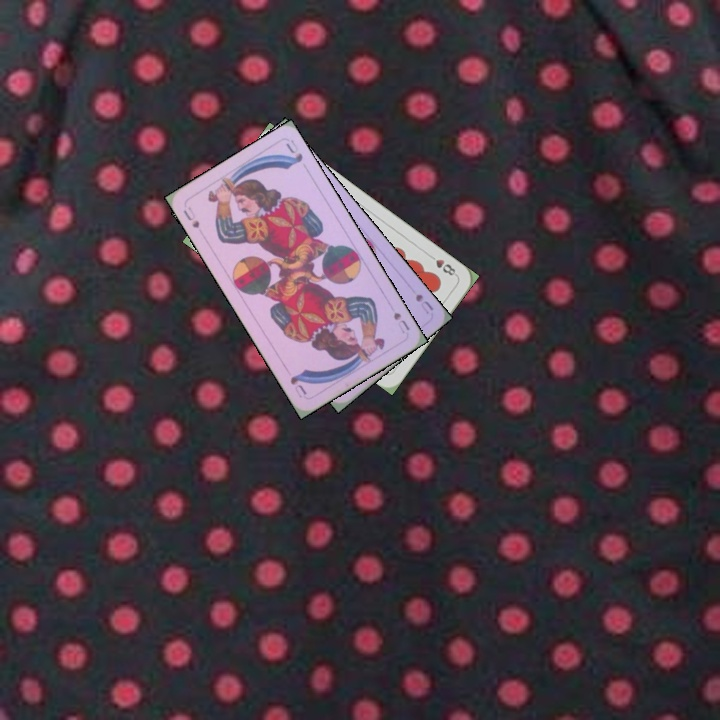H8: (424, 250, 460, 279)
SU: (411, 290, 436, 317), (179, 202, 202, 231), (389, 308, 412, 336)
